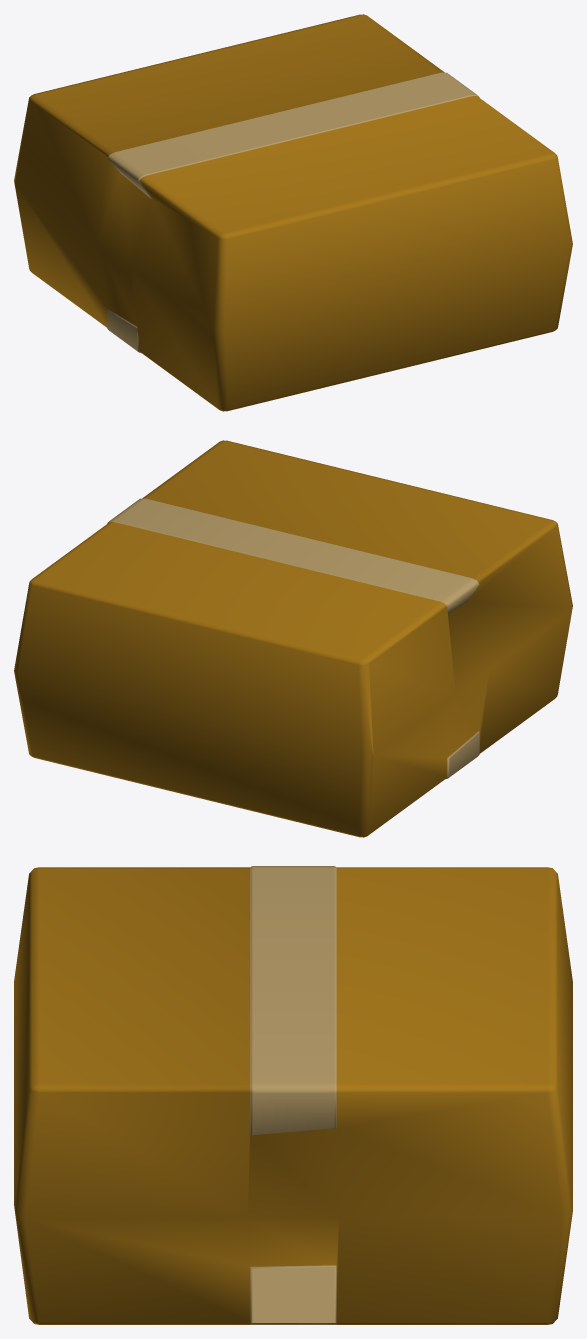
The model's file is Box_Model_crushed(1x1x1).fbx.
3 renders of one model, top to bottom at view 1: azimuth 30°, elevation 25°; view 2: azimuth 150°, elevation 25°; view 3: azimuth 270°, elevation 25°, orthographic. The views are drawn at different scales.
Visible parts, largest first — view 1: 1x1x1_crushed; view 2: 1x1x1_crushed; view 3: 1x1x1_crushed.
Part boxes in pixels (x1,y1,x2,y2): 1x1x1_crushed: [14, 14, 572, 411]; 1x1x1_crushed: [14, 440, 572, 837]; 1x1x1_crushed: [14, 866, 572, 1324].
Size of the model in its own units: 10.57 by 5.02 by 10.57.
